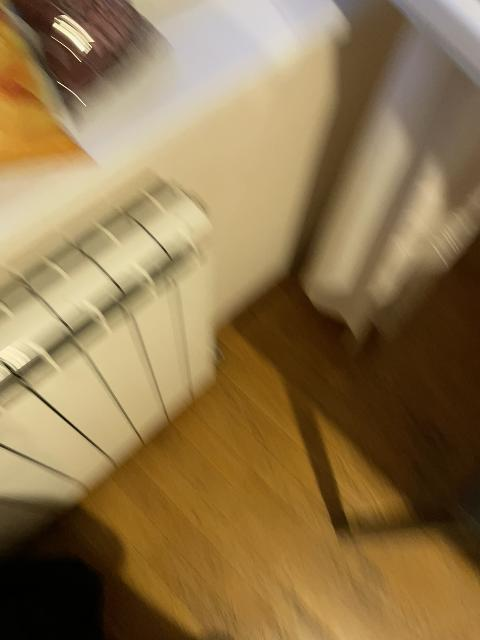Chio Cascaval 125g: (0, 3, 94, 201)
Lays Beef Grilled Ribs 125g: (12, 0, 175, 110)
